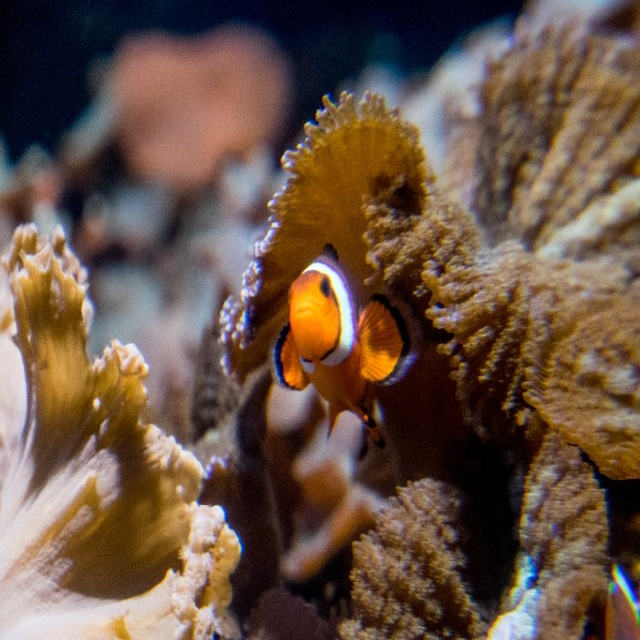Fish: (274, 243, 420, 460)
